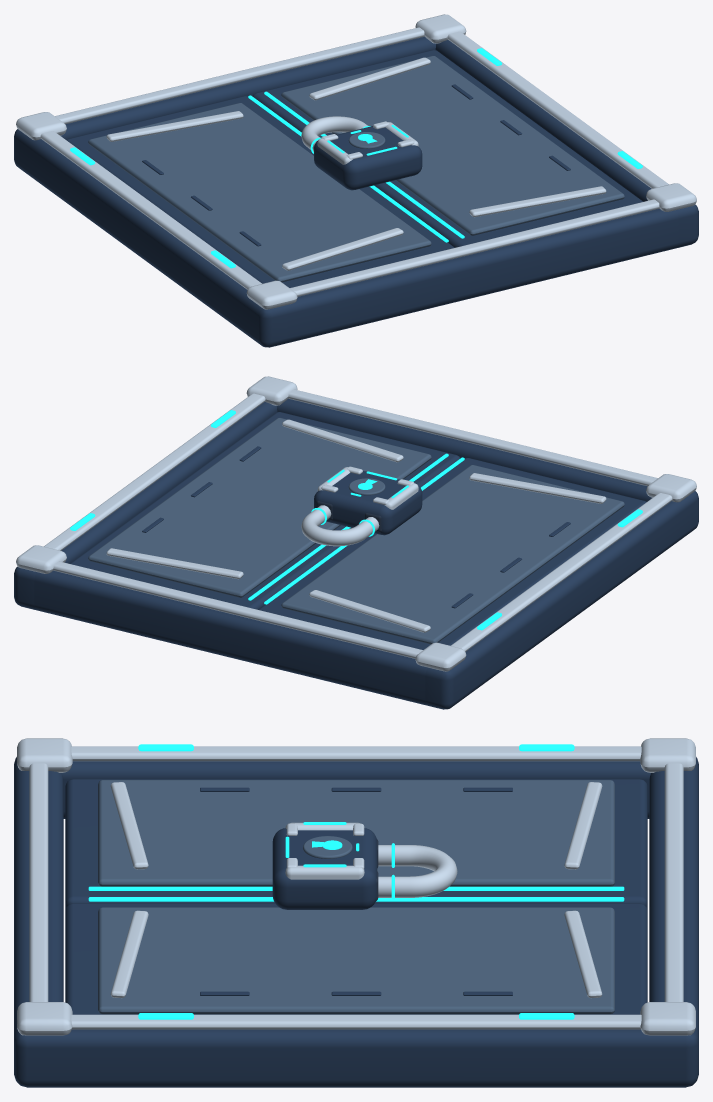
File: AFJ_Reward_Door.fbx
3 renders of one model, top to bottom at view 1: azimuth 30°, elevation 25°; view 2: azimuth 150°, elevation 25°; view 3: azimuth 270°, elevation 25°, orthographic. The views are drawn at different scales.
Parts seen in each view (by area): view 1: Panel_Armor, Panel_Armor.001, Frame_End, Frame_Side, Door_Panel, Door_Panel.001, Frame_End.001, Frame_Side.001, Frame_EndTrim, Frame_EndTrim.001, Lock_Body.001, Frame_Trim (+12 smaller); view 2: Panel_Armor, Panel_Armor.001, Frame_End.001, Frame_Side, Door_Panel, Door_Panel.001, Frame_End, Frame_Side.001, Frame_EndTrim.001, Frame_EndTrim, Frame_Trim, Frame_Trim.001 (+12 smaller); view 3: Panel_Armor.001, Panel_Armor, Frame_Side.001, Door_Panel, Frame_Side, Door_Panel.001, Frame_Trim.001, Frame_Trim, Frame_End, Frame_End.001, Lock_Body.001, Frame_EndTrim (+14 smaller).
Part boxes in pixels (<box>): Panel_Armor: <box>88,103,431,282</box>; Panel_Armor.001: <box>281,56,624,235</box>; Frame_End: <box>285,208,678,343</box>; Frame_Side: <box>14,129,287,347</box>; Door_Panel: <box>66,96,454,287</box>; Door_Panel.001: <box>252,50,643,247</box>; Frame_End.001: <box>60,36,435,139</box>; Frame_Side.001: <box>435,40,698,248</box>; Frame_EndTrim: <box>290,199,659,296</box>; Frame_EndTrim.001: <box>55,27,424,124</box>; Lock_Body.001: <box>314,126,422,190</box>; Frame_Trim: <box>40,131,261,289</box>; Panel_Armor: <box>281,465,624,644</box>; Panel_Armor.001: <box>88,418,431,597</box>; Frame_End.001: <box>34,570,427,705</box>; Frame_Side: <box>425,491,698,709</box>; Door_Panel: <box>258,458,646,649</box>; Door_Panel.001: <box>69,412,460,609</box>; Frame_End: <box>277,398,652,501</box>; Frame_Side.001: <box>14,402,277,610</box>; Frame_EndTrim.001: <box>53,561,422,658</box>; Frame_EndTrim: <box>288,389,657,486</box>; Frame_Trim: <box>451,493,672,651</box>; Frame_Trim.001: <box>44,393,265,550</box>; Panel_Armor.001: <box>98,907,614,1014</box>; Panel_Armor: <box>98,780,614,886</box>; Frame_Side.001: <box>14,1026,698,1087</box>; Door_Panel: <box>65,779,647,909</box>; Frame_Side: <box>14,757,698,818</box>; Door_Panel.001: <box>65,903,647,1014</box>; Frame_Trim.001: <box>71,1014,641,1029</box>; Frame_Trim: <box>71,746,641,761</box>; Frame_End: <box>14,767,63,1031</box>; Frame_End.001: <box>649,767,698,1031</box>; Lock_Body.001: <box>272,828,377,909</box>; Frame_EndTrim: <box>29,763,48,1001</box>.
Size of the model in its own units: 468 by 78.04 by 468.
